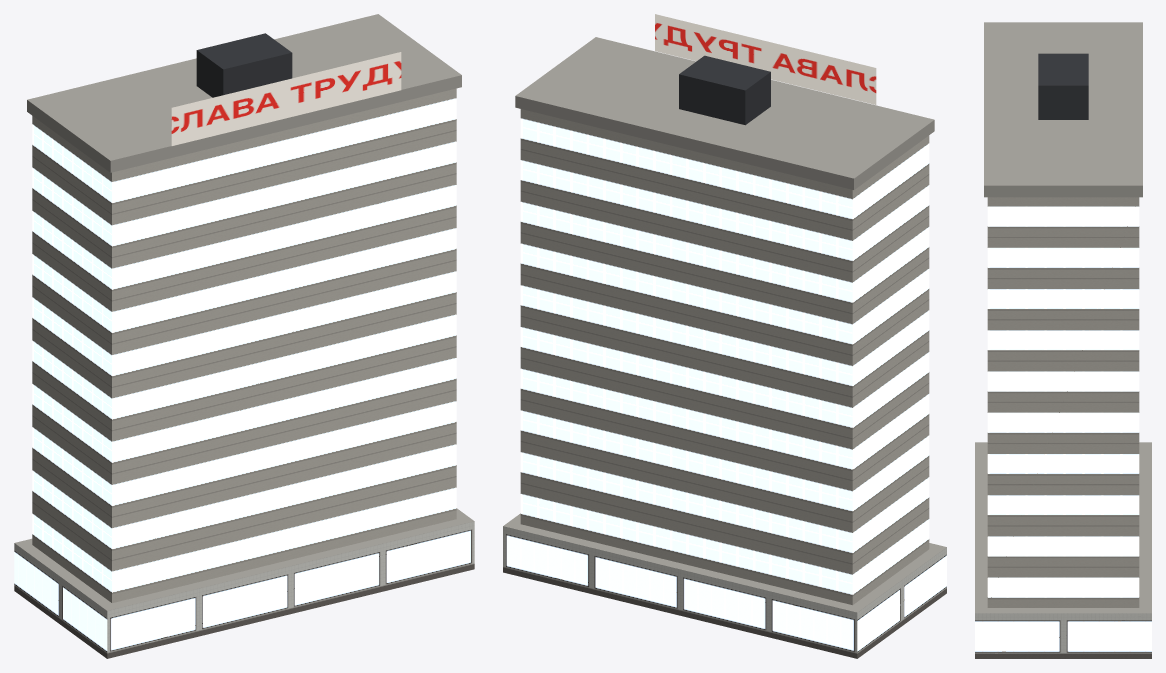
Rendered from sov_nii.glb.
3 renders of one model, left to right at view 1: azimuth 30°, elevation 25°; view 2: azimuth 150°, elevation 25°; view 3: azimuth 270°, elevation 25°, orthographic. The views are drawn at different scales.
Visible parts, largest first — view 1: box; view 2: box; view 3: box.
Part boxes in pixels (left/top/right/bottom): box: left=14, top=14, right=474, bottom=658; box: left=503, top=14, right=946, bottom=658; box: left=975, top=22, right=1151, bottom=658.
Size of the model in its own units: 32 by 44.2 by 14.
Materials: 5 (3 with a texture image).
